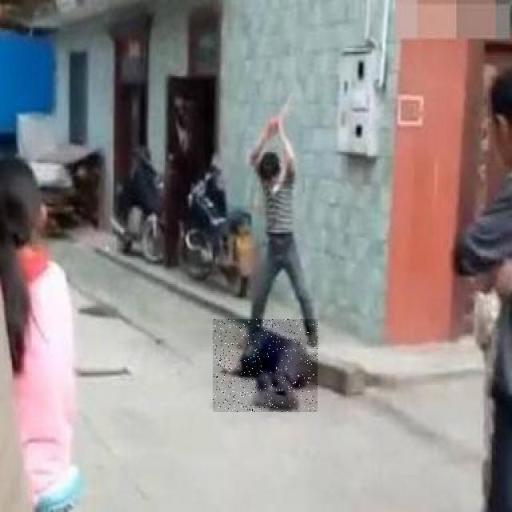Fall: (213, 319, 318, 412)
